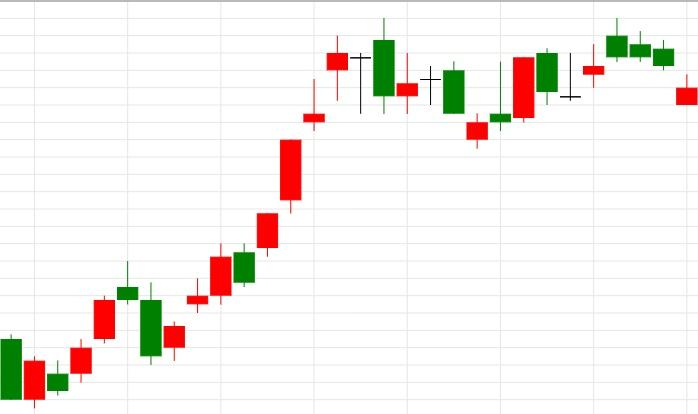evening_star_fall: (139, 18, 396, 365), (0, 261, 163, 408)
